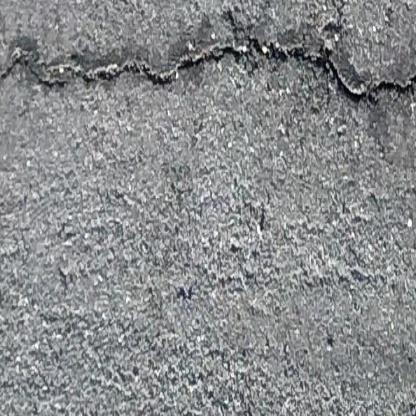Cracks: (0, 8, 416, 107)
